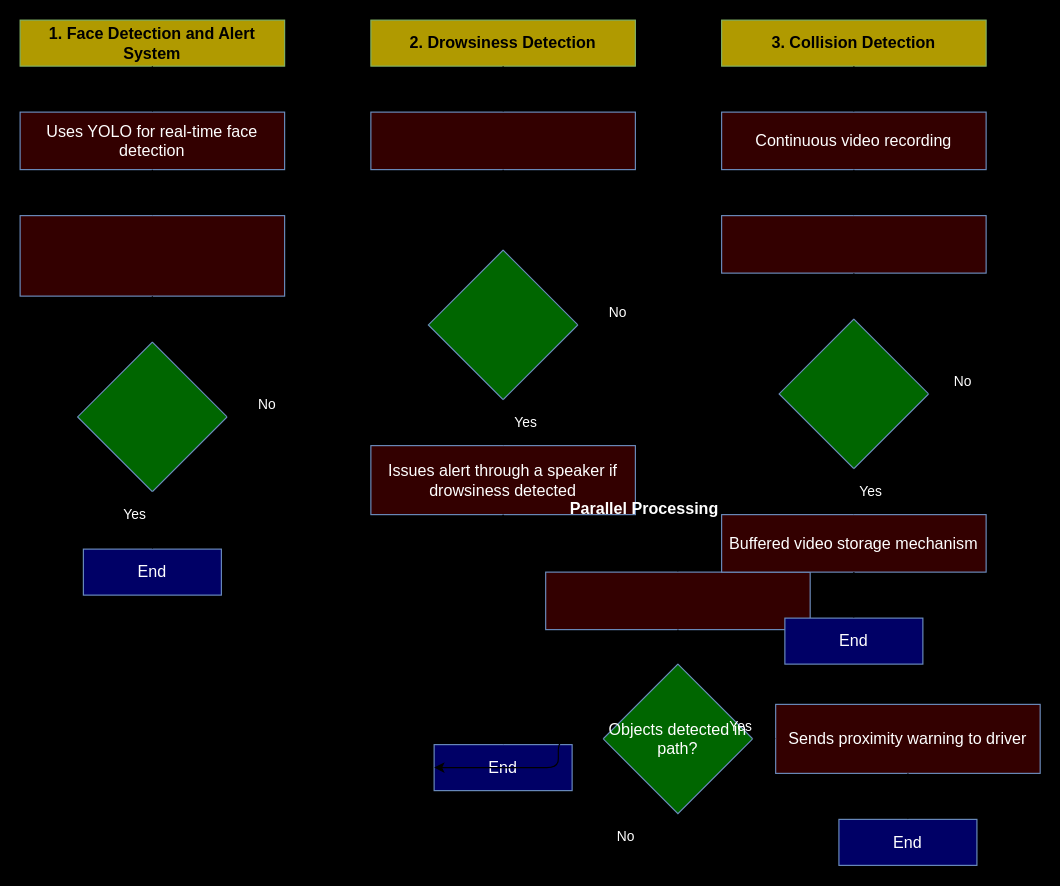
Some shapes in this 1060 by 886 pixel diagram are drawn without their labels. Here are the shapes that lost their labels. From the top down, the centre of each, then its label:
At point (502, 140): "OpenCV with CNNs used to detect drowsiness".
At point (152, 255): "Sends alert via Wi-Fi to an app if an unregistered face is detected".
At point (853, 243): "SSD algorithm used to detect collision".
At point (502, 324): "Drowsiness detected?".
At point (853, 393): "Collision event detected?".
At point (151, 416): "Allow access?".
At point (677, 600): "Object Detection runs in parallel".
